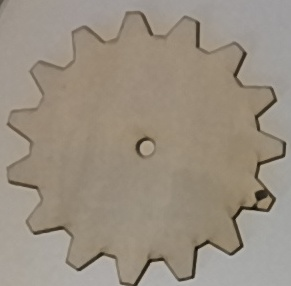Points: (249, 186, 269, 211)
